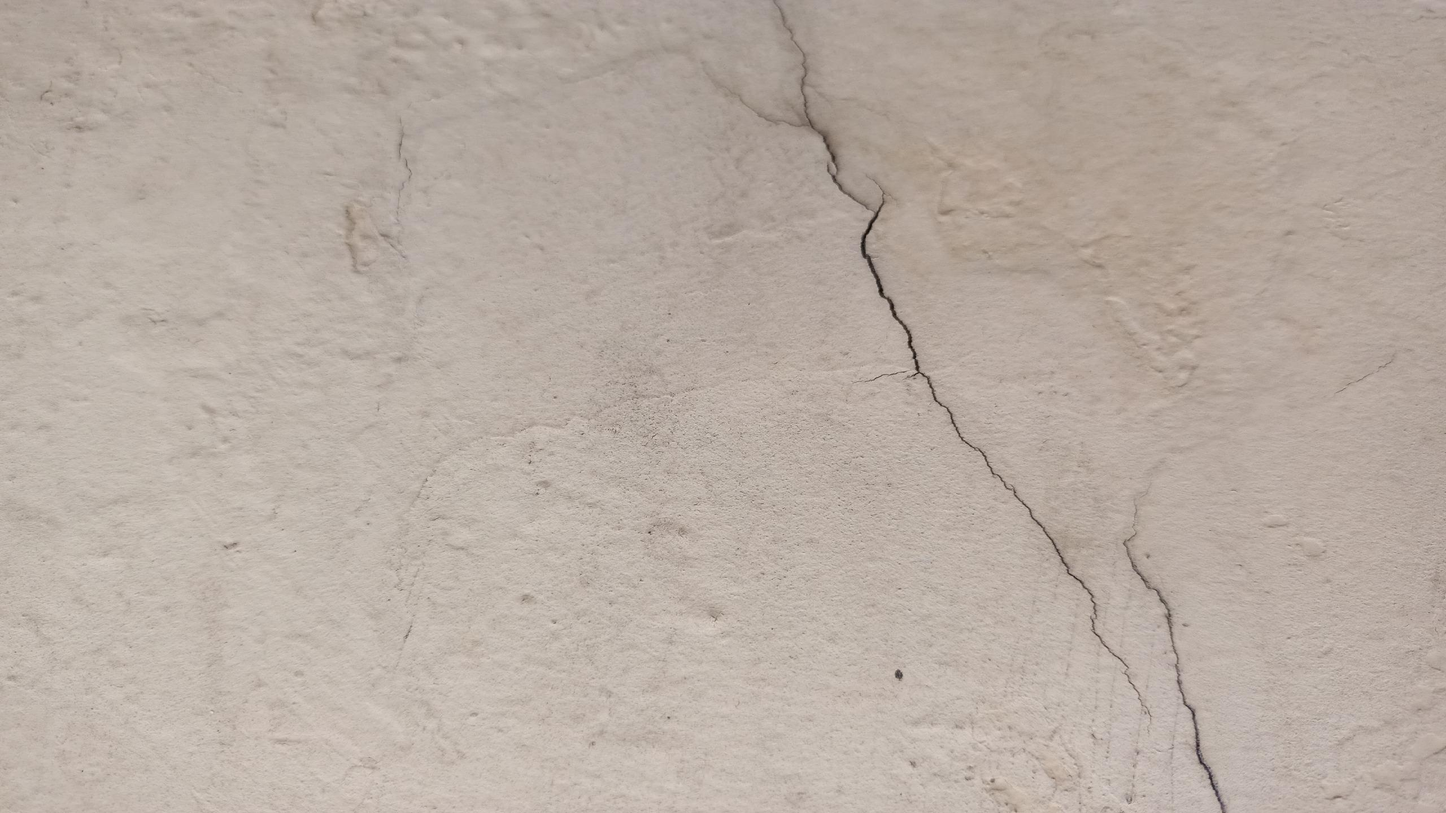crack: (853, 172, 1148, 716), (1119, 535, 1228, 810), (778, 0, 874, 209)
